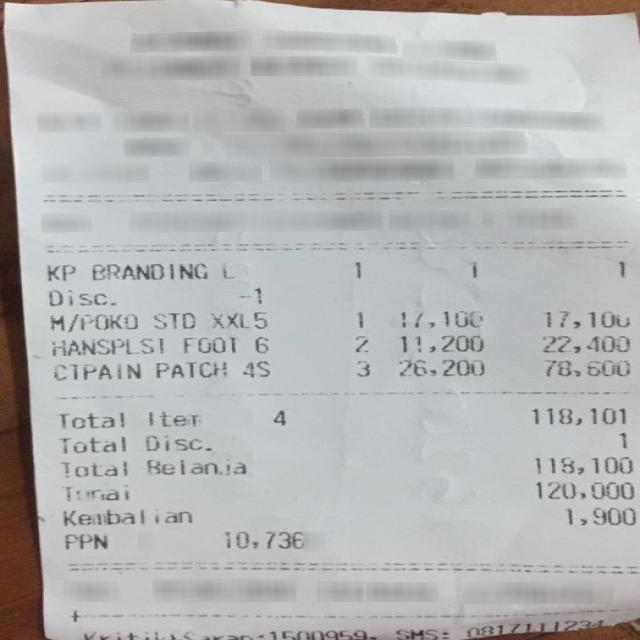text: (80, 628, 366, 639), (62, 507, 192, 525), (463, 619, 604, 635), (50, 337, 167, 355), (89, 262, 204, 280), (534, 455, 630, 474), (146, 457, 244, 475), (534, 481, 631, 499), (48, 312, 134, 331), (393, 308, 482, 326), (540, 334, 626, 352), (50, 362, 138, 379), (530, 407, 623, 423), (224, 530, 302, 549), (398, 334, 480, 352), (544, 308, 626, 326), (543, 359, 628, 376), (397, 358, 481, 375), (46, 287, 115, 306), (56, 435, 125, 453), (154, 360, 225, 377), (564, 507, 633, 524), (144, 432, 209, 450), (56, 410, 124, 427), (58, 460, 124, 477), (64, 483, 124, 500), (208, 310, 262, 328), (183, 335, 238, 352), (148, 409, 198, 426), (153, 311, 193, 328), (63, 533, 104, 548), (392, 628, 447, 639), (238, 285, 263, 305), (240, 359, 268, 376), (45, 264, 73, 280), (352, 332, 370, 352), (353, 360, 370, 376), (466, 259, 478, 279), (614, 258, 626, 278), (352, 310, 365, 328), (614, 430, 626, 449), (272, 408, 284, 424), (352, 260, 364, 276), (254, 336, 266, 351), (220, 263, 232, 277)
